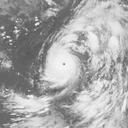cyclone: (46, 47, 80, 86)
